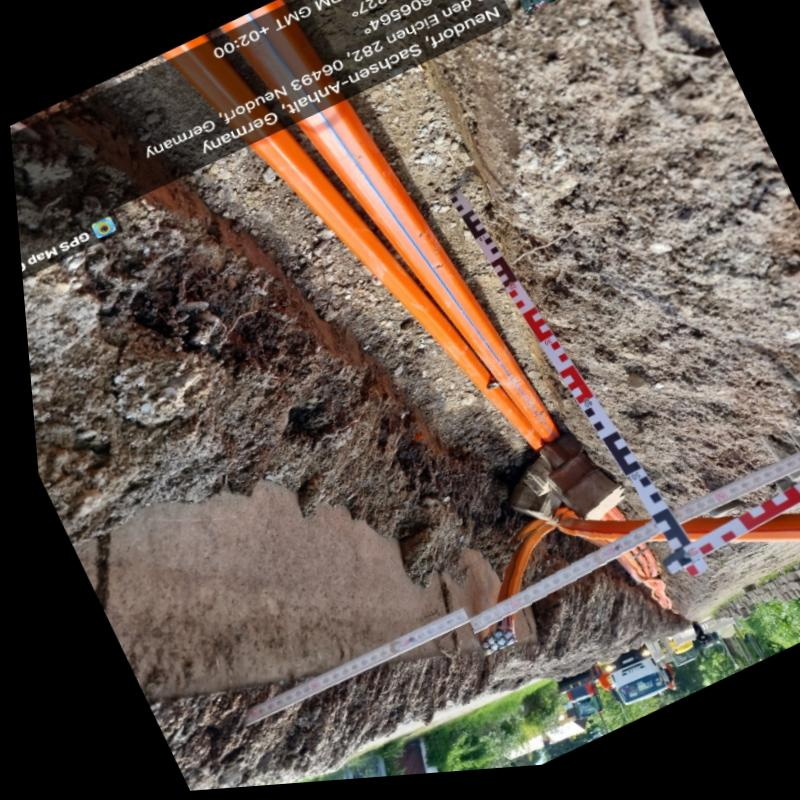Orang-Speednetrohrchen: (252, 106, 550, 455), (467, 521, 640, 660), (605, 550, 660, 616)
